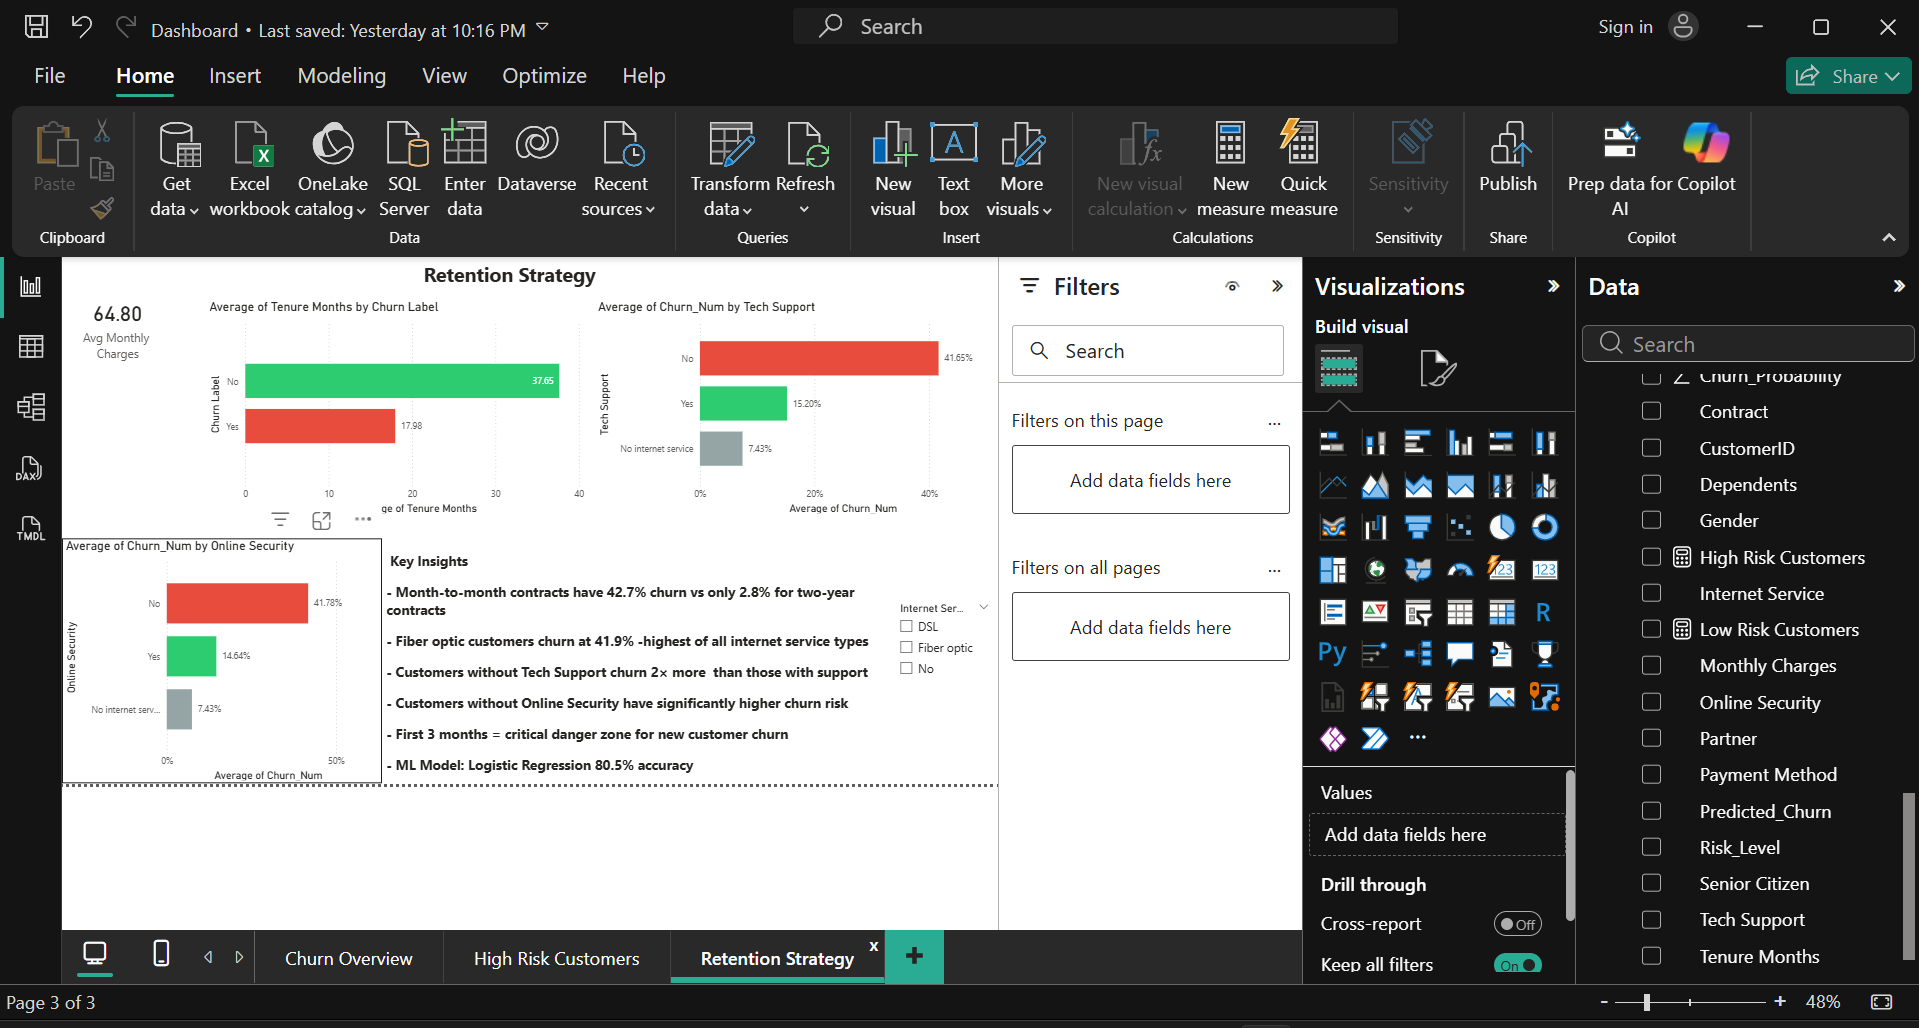

This screenshot's page, from the dashboard's own definition file:
{"tool":"powerbi","page":{"name":"Retention Strategy","canvas":[1280,720],"ordinal":2},"visuals":[{"type":"card","fields":{"Values":["churn_cleaned.Avg Monthly Charges"]},"box":[0,0,151.5,170.7],"z":0},{"type":"clusteredBarChart","fields":{"Category":["churn_cleaned.Churn Label"],"Y":["Avg(churn_cleaned.Tenure Months)"]},"box":[195.6,57.5,531.2,297.3],"z":1000},{"type":"clusteredBarChart","fields":{"Category":["churn_cleaned.Tech Support"],"Y":["Avg(churn_cleaned.Churn_Num)"]},"box":[726.8,57.5,552.3,297.3],"z":2000},{"type":"clusteredBarChart","fields":{"Category":["churn_cleaned.Online Security"],"Y":["Avg(churn_cleaned.Churn_Num)"]},"box":[0,383.6,437.3,335.6],"z":3000},{"type":"slicer","fields":{"Values":["churn_cleaned.Internet Service"]},"box":[1133.4,467.9,145.8,170.7],"z":4000},{"type":"textbox","box":[395.1,0,433.4,57.5],"z":5000},{"type":"textbox","box":[437.3,397,696.2,322.2],"z":5001}]}

Visuals, with their boxes on the page's 1280x720 design canvas (x1, y1, x2, y2). These are canvas units, not pixel positions in the 1919x1028 screenshot, which may show the page scaled, cropped or inside an application window:
card - churn_cleaned.Avg Monthly Charges: bbox(0, 0, 152, 171)
clusteredBarChart - churn_cleaned.Churn Label x Avg(churn_cleaned.Tenure Months): bbox(196, 58, 727, 355)
clusteredBarChart - churn_cleaned.Tech Support x Avg(churn_cleaned.Churn_Num): bbox(727, 58, 1279, 355)
clusteredBarChart - churn_cleaned.Online Security x Avg(churn_cleaned.Churn_Num): bbox(0, 384, 437, 719)
slicer - churn_cleaned.Internet Service: bbox(1133, 468, 1279, 639)
textbox: bbox(395, 0, 828, 58)
textbox: bbox(437, 397, 1134, 719)
